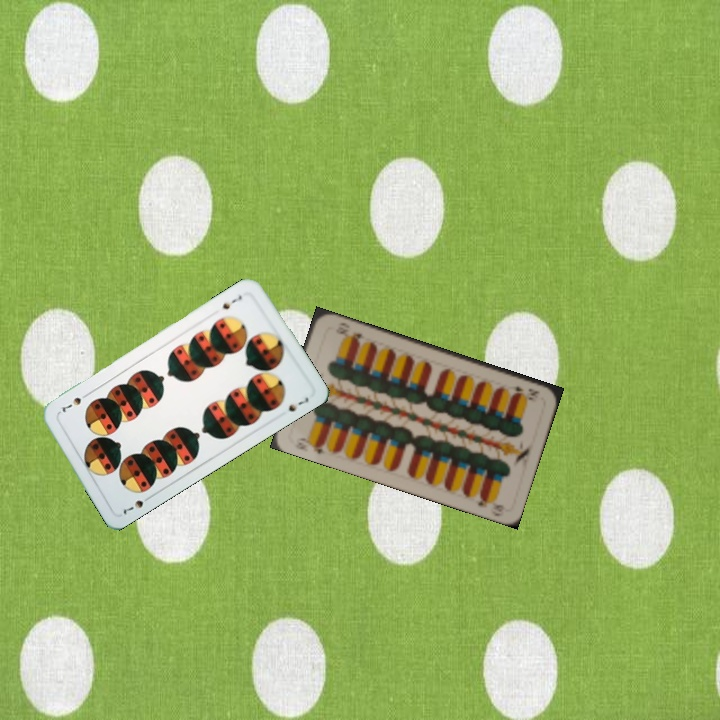E10: (291, 434, 327, 457), (504, 382, 542, 402)
S7: (119, 491, 154, 518), (218, 291, 244, 312)
